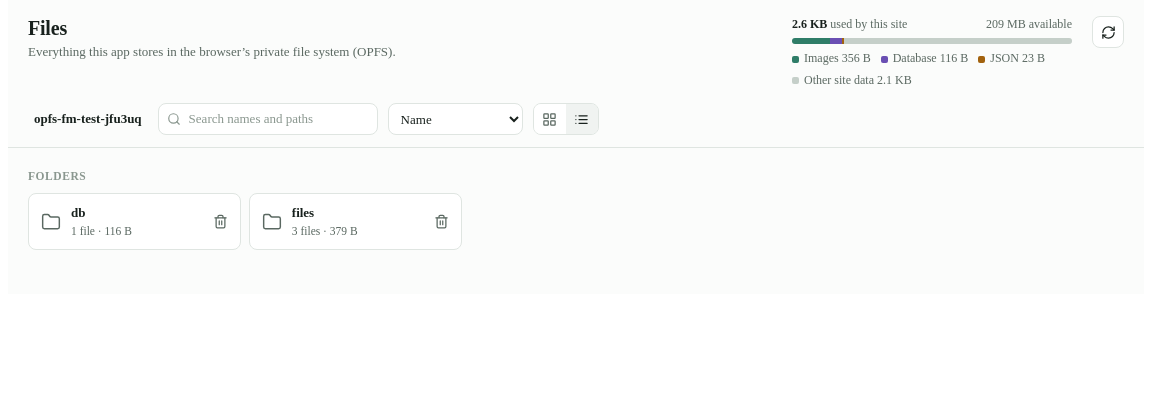
OPFSFilesManager › shows folders and navigates with breadcrumbs
Click the button "files 3 files · 379 B" at {"x": 355, "y": 222}, box [249,193,462,250]
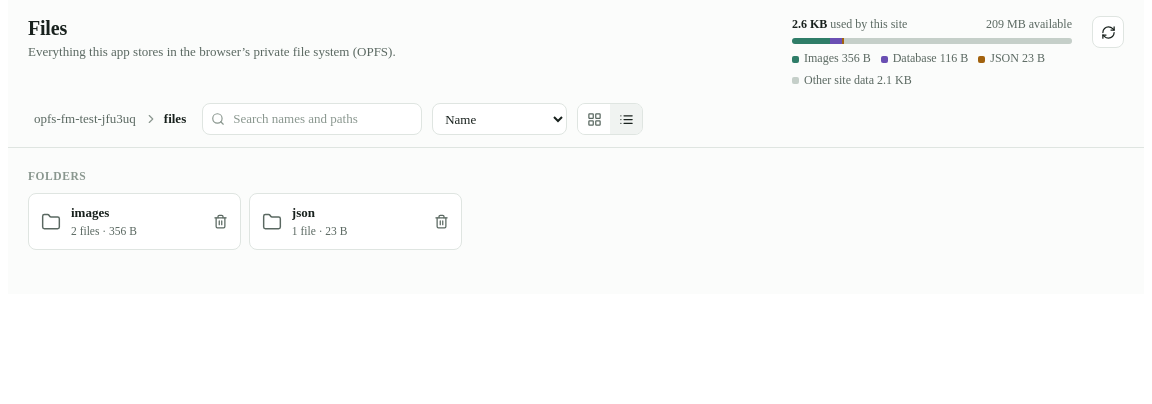
Click the button "images 2 files · 356 B" at {"x": 134, "y": 222}, box [28,193,241,250]
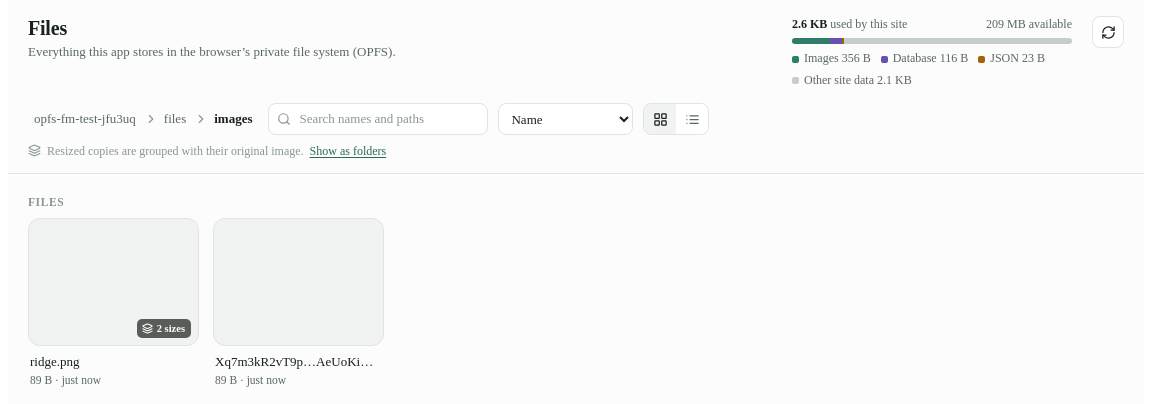
Click the 2nd button at {"x": 85, "y": 119}, box [28,106,142,133]
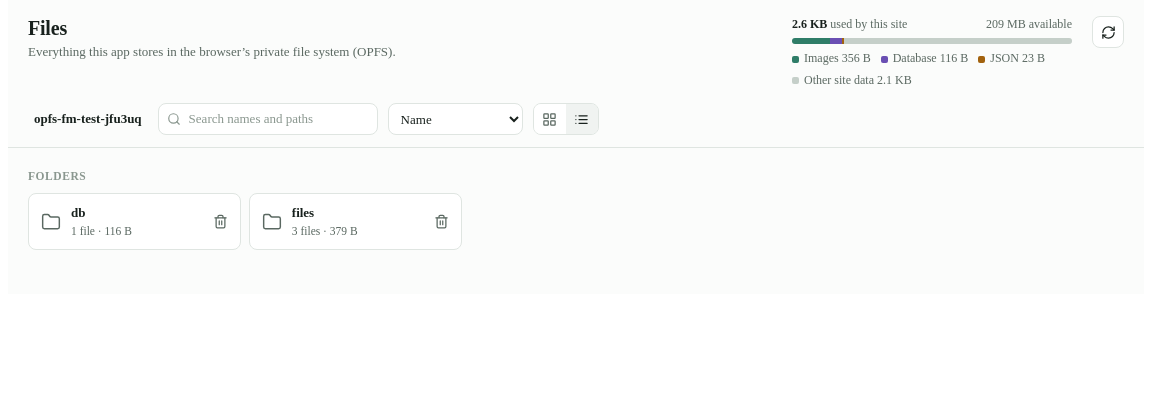
Now the button "db 1 file · 116 B" is shown, box [28,193,241,250]
